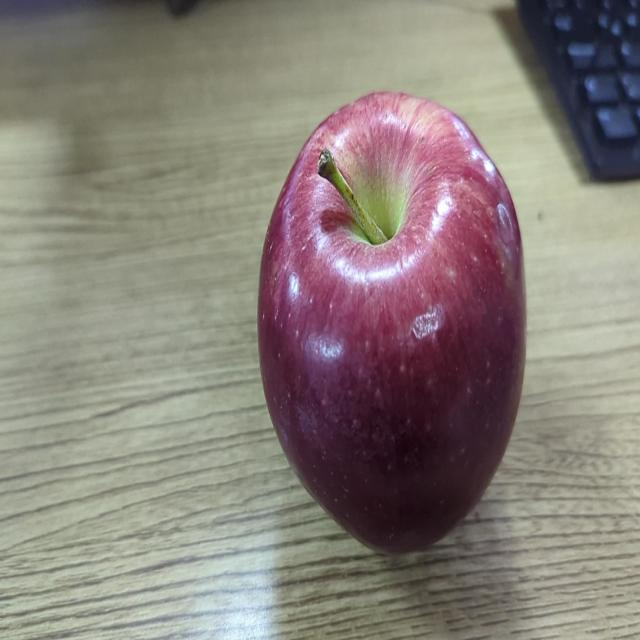Apel Merah: (264, 92, 520, 554)
